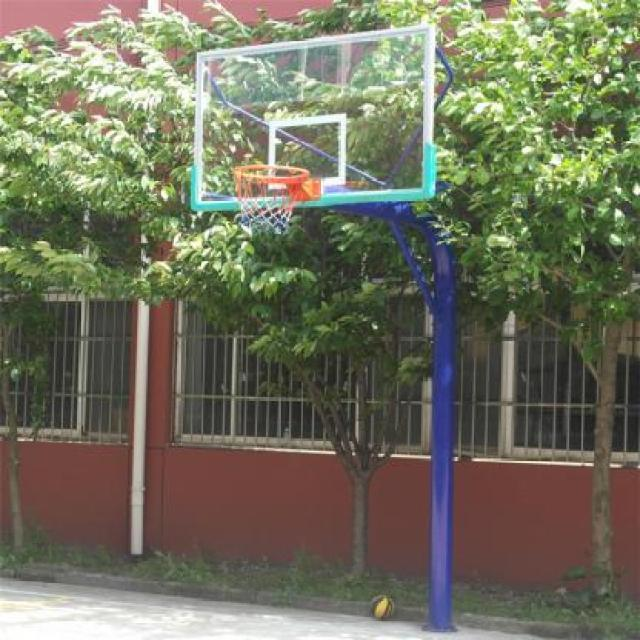rim: (230, 164, 308, 232)
